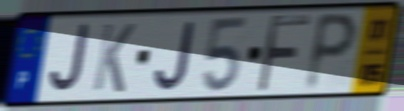5: (200, 14, 251, 96)
F: (253, 12, 313, 95)
J: (151, 19, 198, 94), (47, 22, 91, 97)
K: (90, 21, 138, 96)
P: (301, 10, 361, 94)
